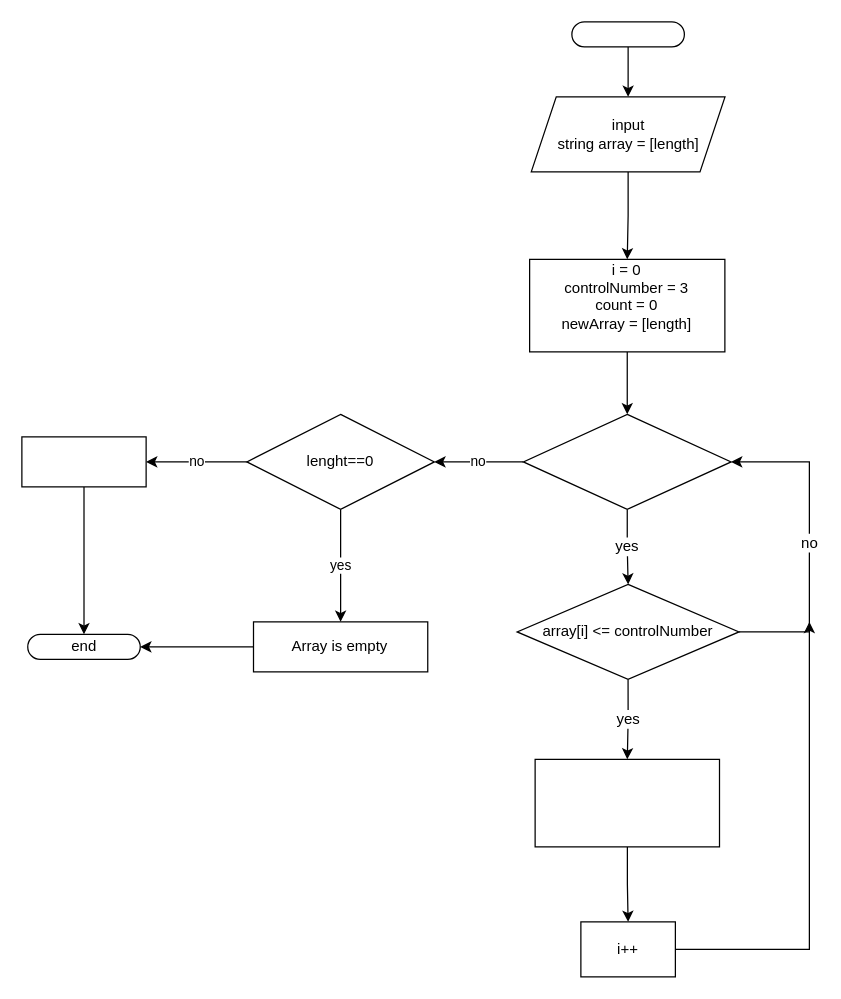
Some shapes in this 841 by 999 pixel diagram are drawn without their labels. Here are the shapes that lost their labels. From the top down, the centre of each, then its label:
the point at 627,34: start
the point at 83,461: print arrayNew
the point at 626,461: i < array.lenght
the point at 627,802: arrayNew[count] = array[i] count ++
